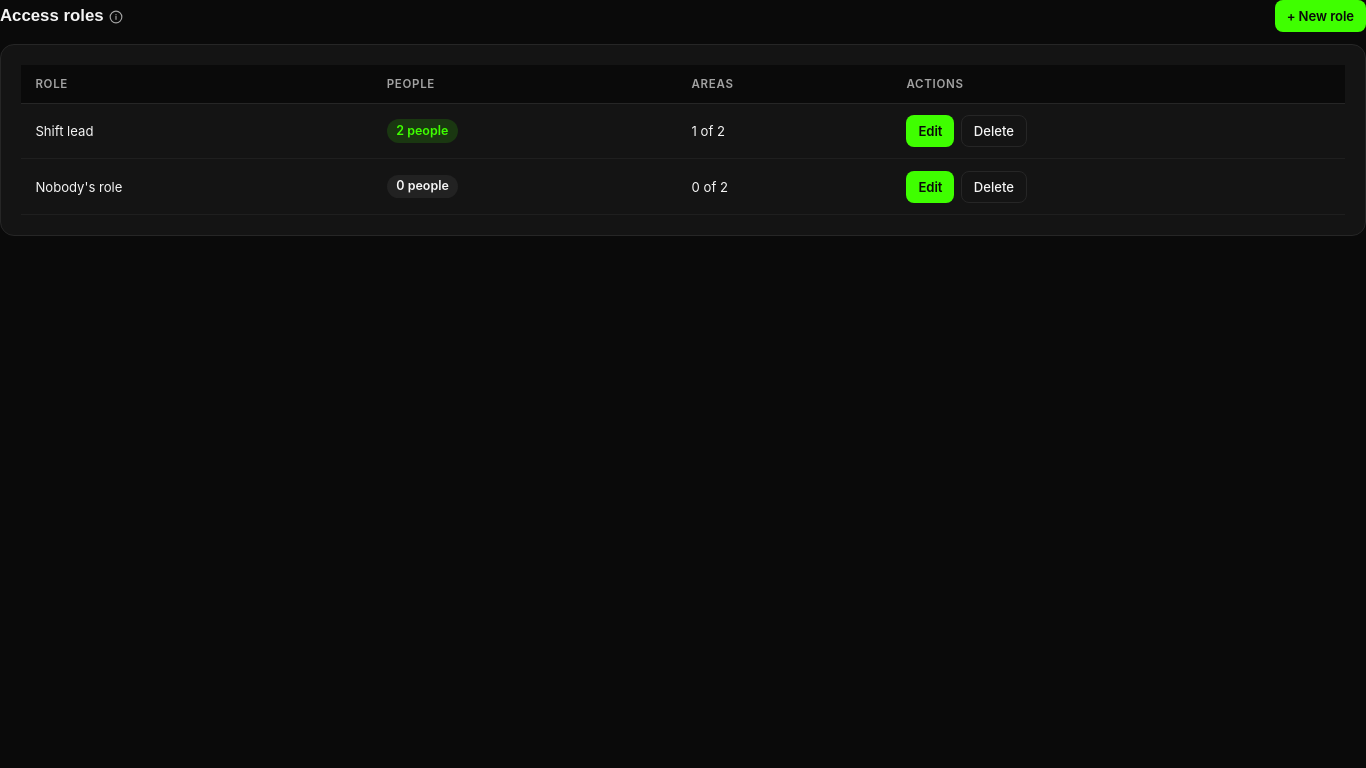
AccessRolesManager › warns inside the form that a save reaches everyone
Click the button "Edit" in the row of "Shift lead" at point(930, 131), box top-left (906, 115), bottom-right (954, 147)
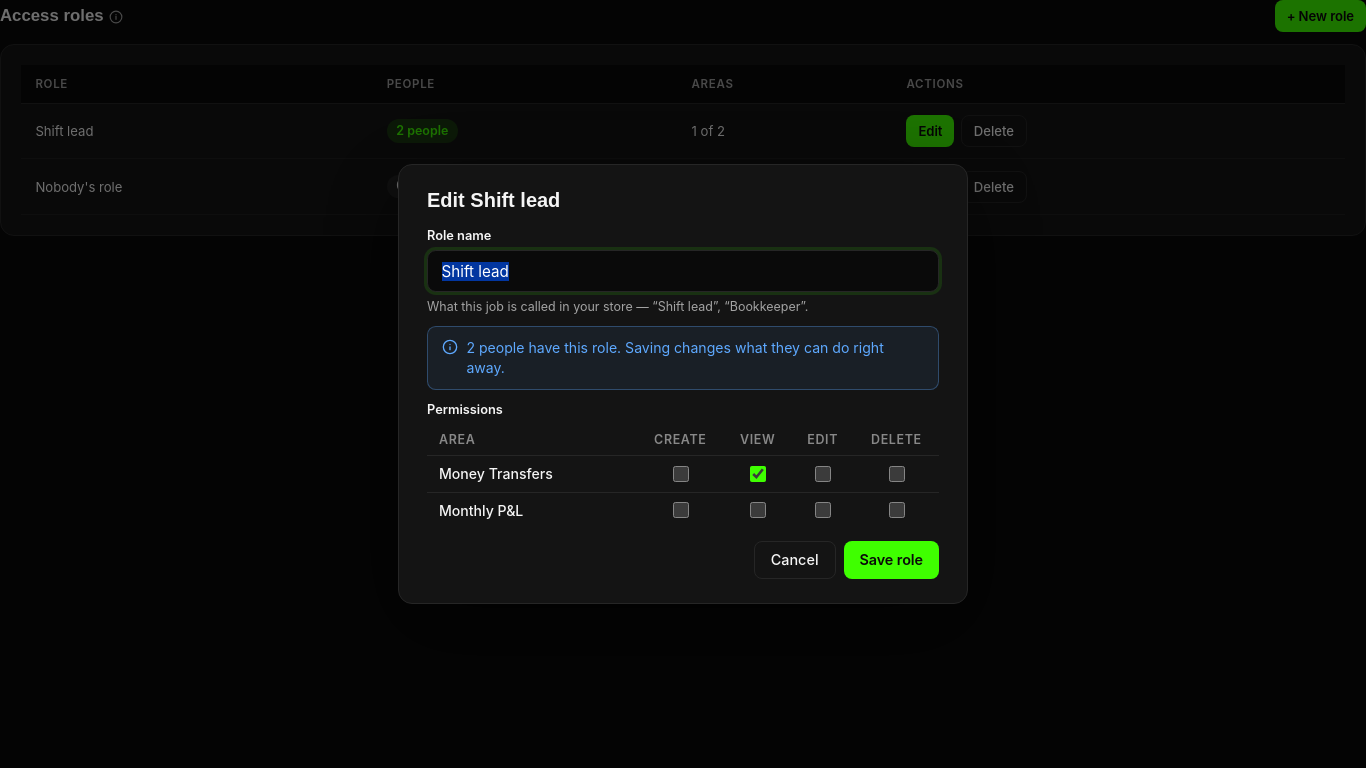
Expected: the text "2 people have this role" is shown, top-left (466, 339), bottom-right (621, 356)
